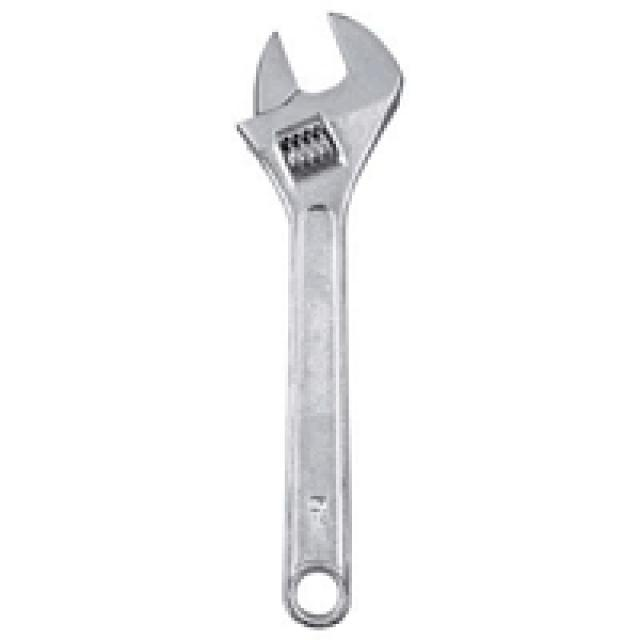wrench: (220, 4, 418, 638)
